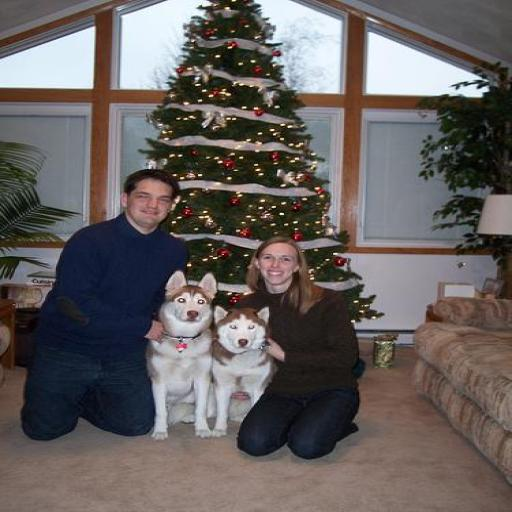dog_face: (207, 306, 276, 364), (163, 269, 218, 326)
